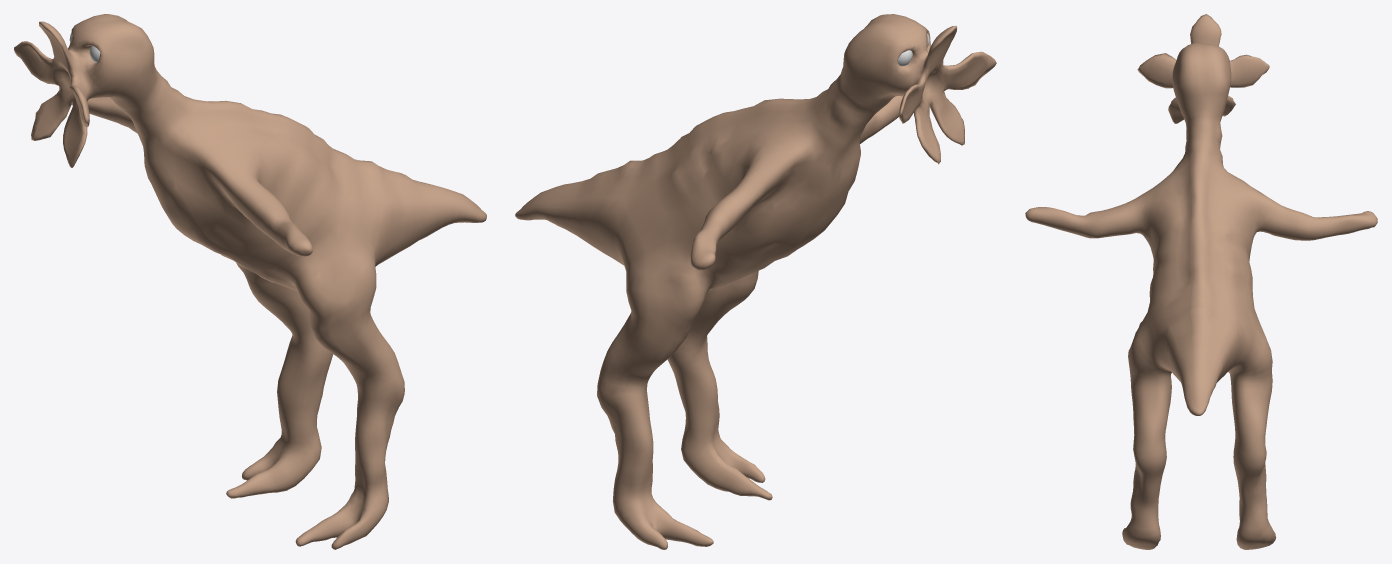
The model's file is EnemyBasic_Definitive.fbx.
3 views of the same model, side by side, from view 1: azimuth 30°, elevation 25°; view 2: azimuth 150°, elevation 25°; view 3: azimuth 270°, elevation 25° (orthographic). The views are drawn at different scales.
Visible parts, largest first — view 1: Enemy_LowPoly; view 2: Enemy_LowPoly; view 3: Enemy_LowPoly.
Boxes of the visible parts, box(x1,y1,x2,y2) form: Enemy_LowPoly: box(14, 14, 486, 549); Enemy_LowPoly: box(515, 14, 996, 549); Enemy_LowPoly: box(1025, 14, 1377, 549).
Bounding box in the file's own units: 195 × 234 × 173.
